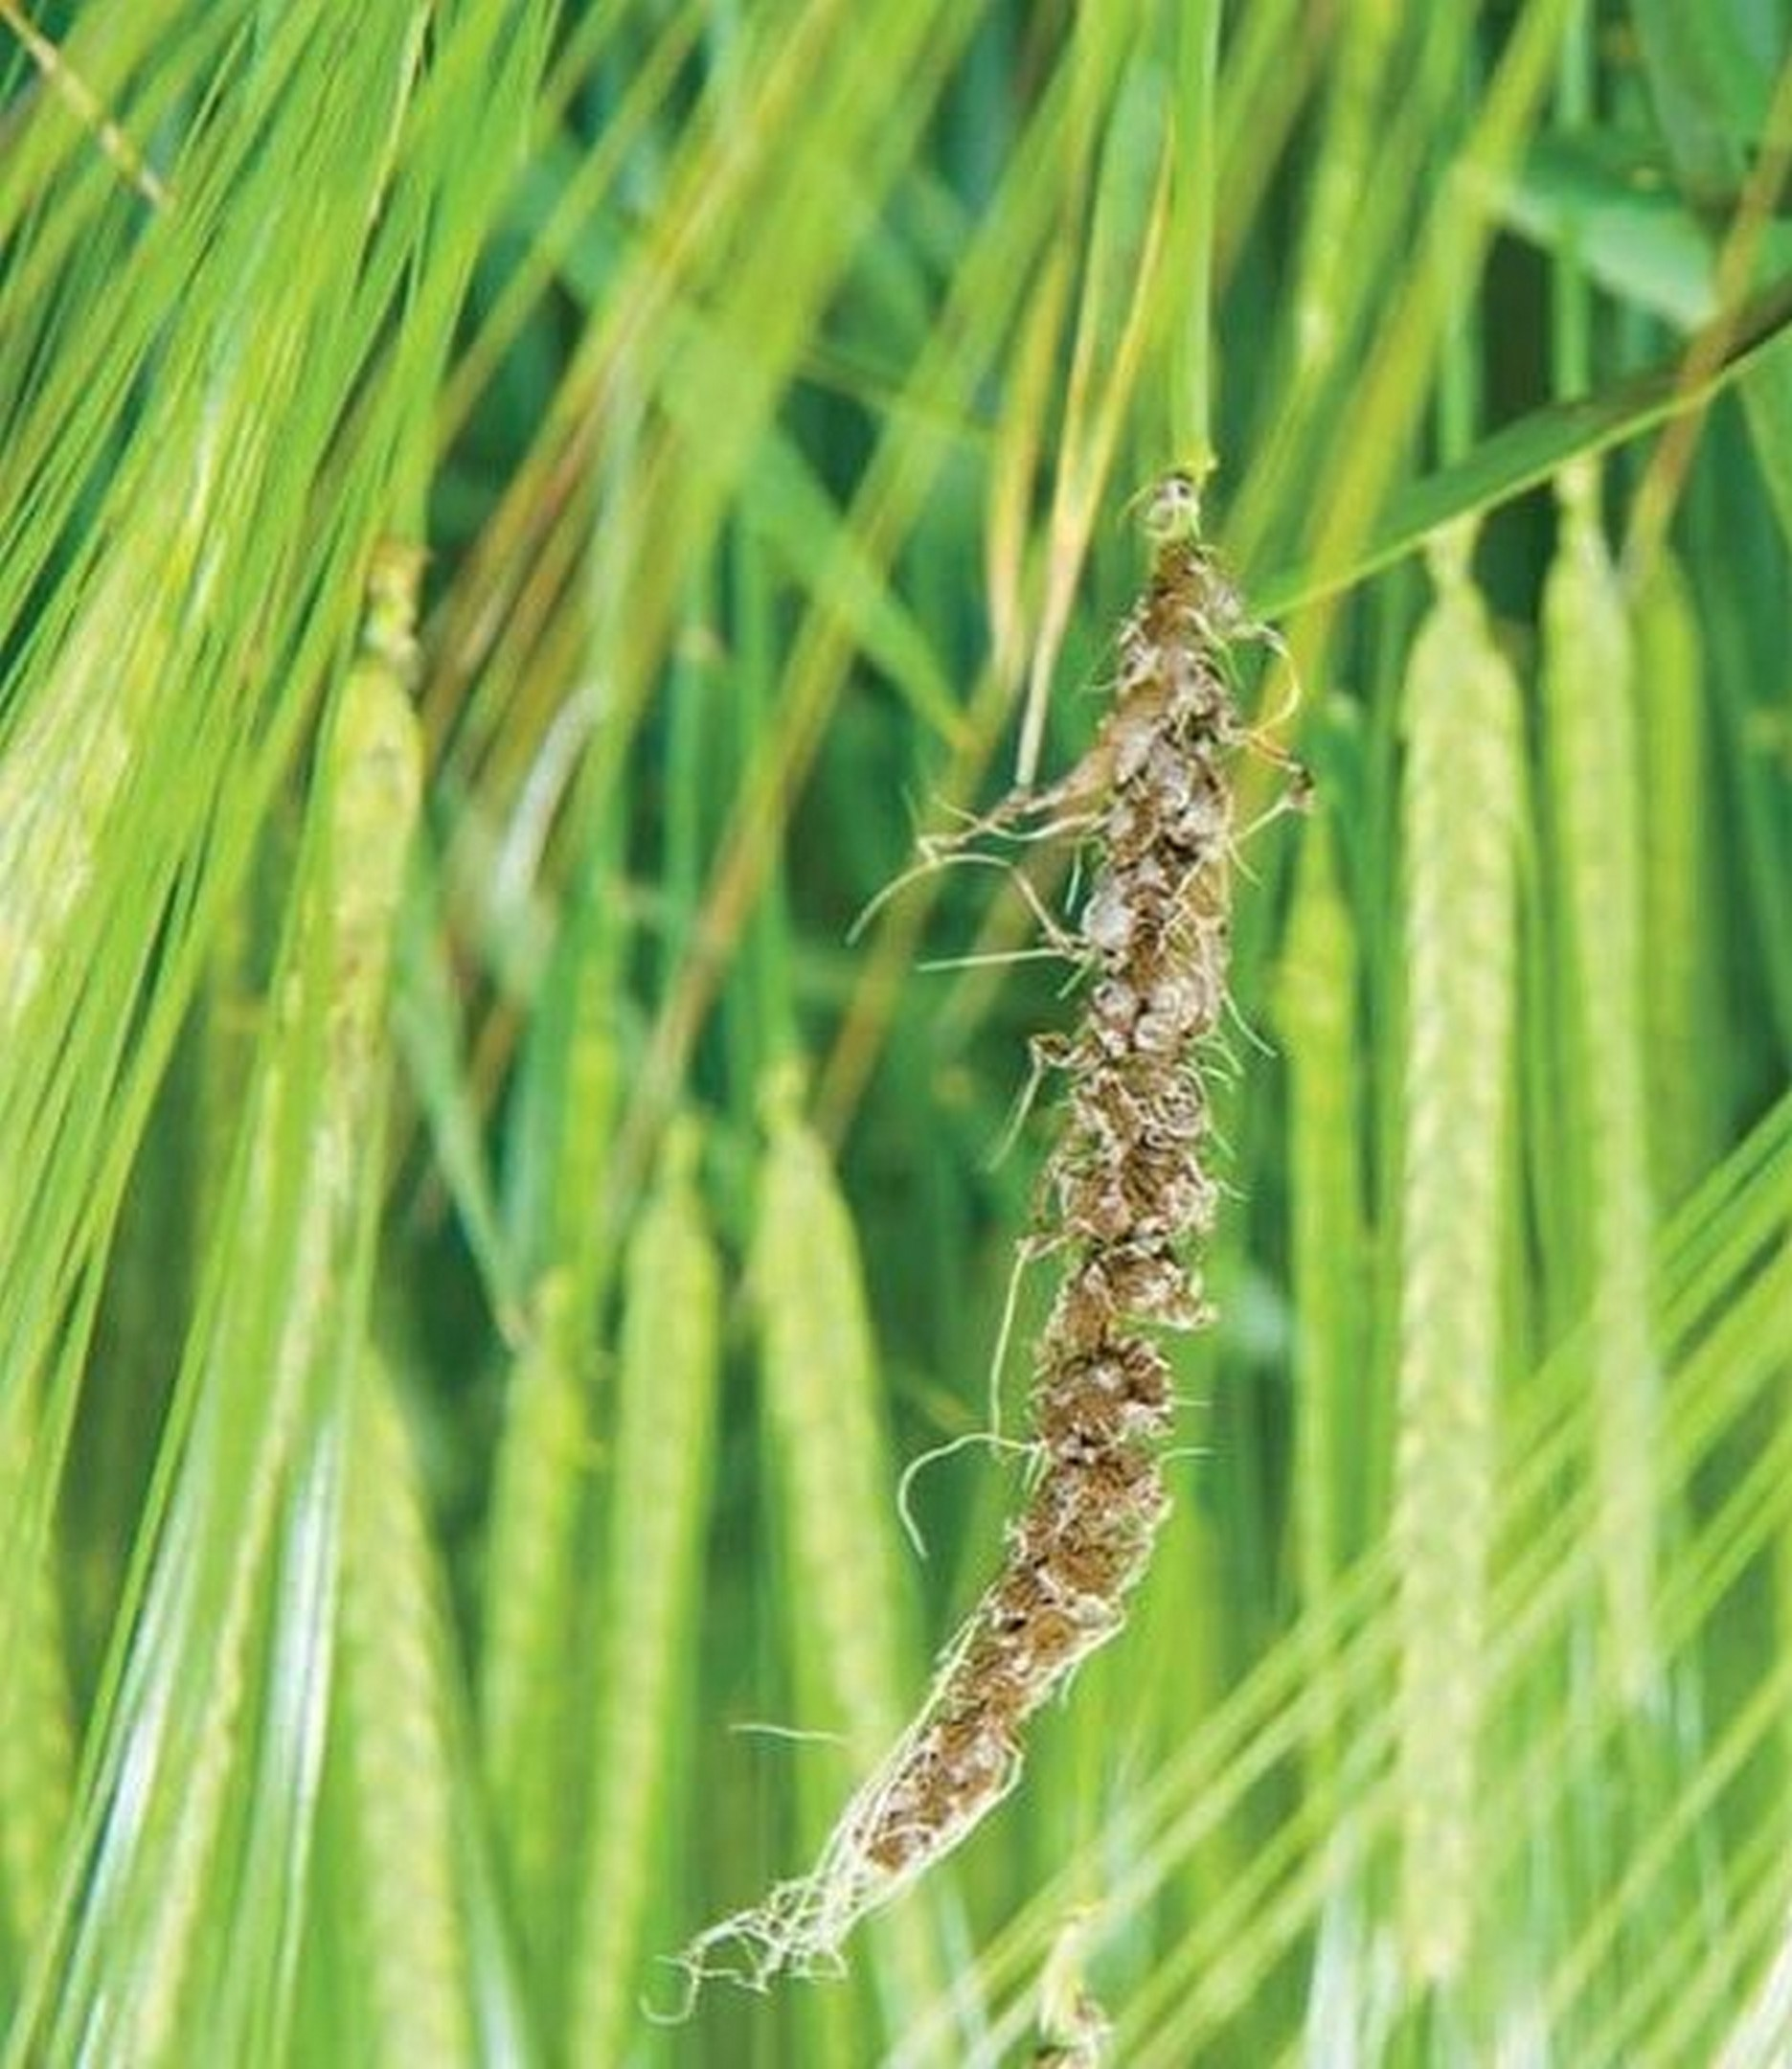Wheat Loose Smut: (842, 514, 1291, 1883)
